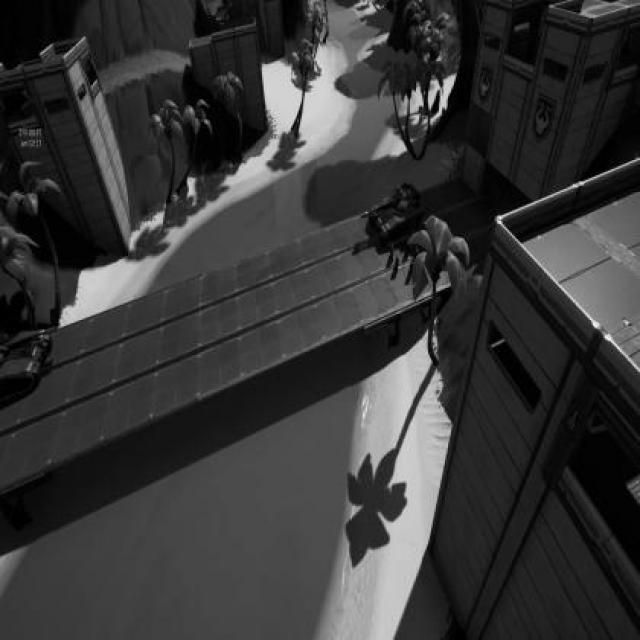tank: (358, 181, 424, 246), (0, 325, 53, 390)
